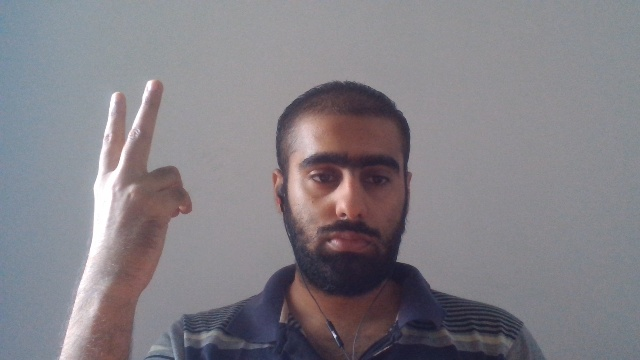scissors: (90, 78, 193, 290)
